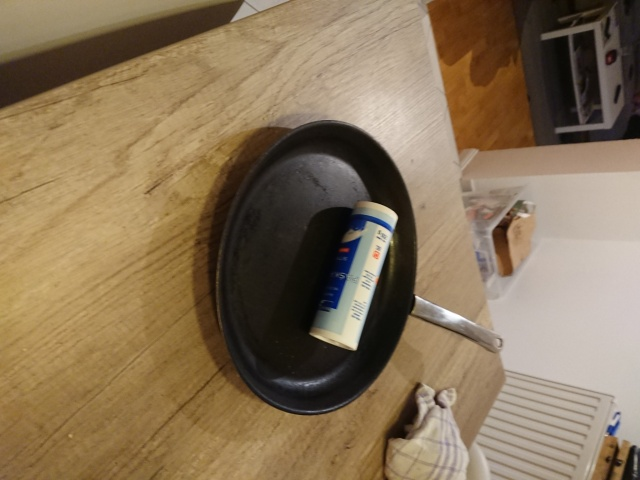Solana Pag Fine Sea Salt 250g: (305, 198, 401, 354)
